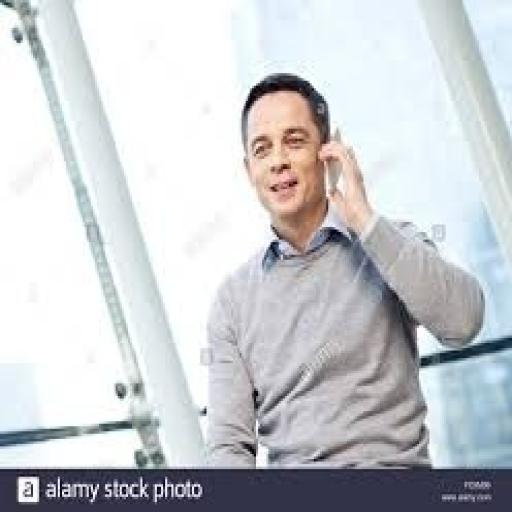calling: (200, 68, 487, 472)
